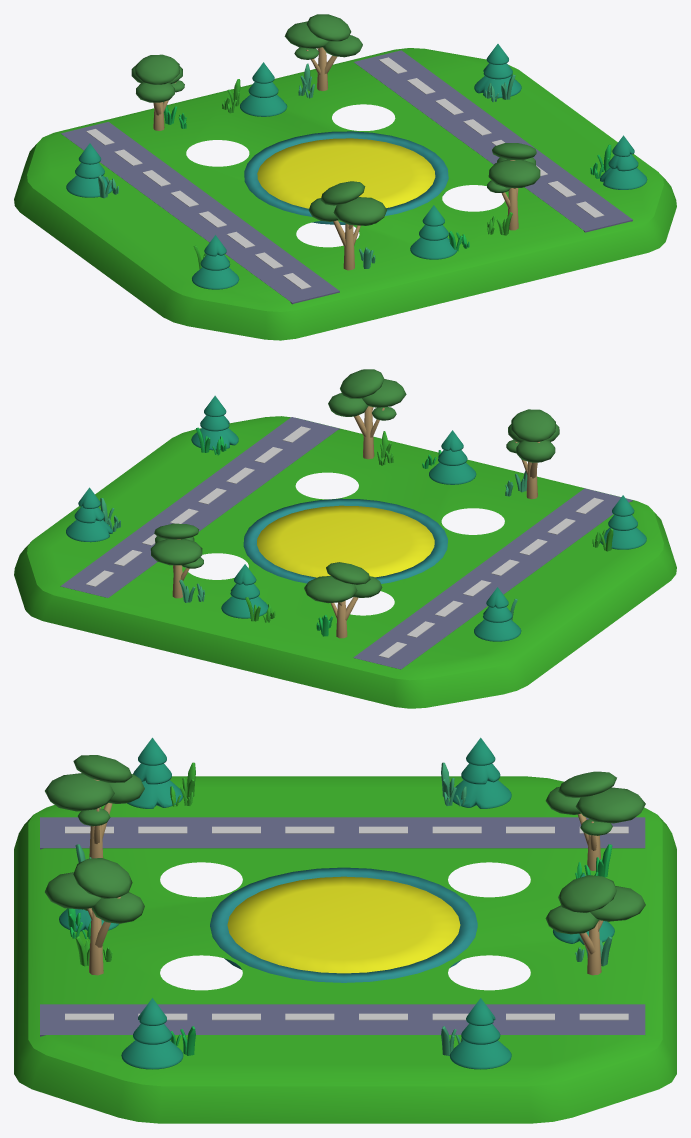
Rendered from park.fbx.
The picture shows the model from 3 angles, top to bottom: view 1: azimuth 30°, elevation 25°; view 2: azimuth 150°, elevation 25°; view 3: azimuth 270°, elevation 25°; orthographic projection. The views are drawn at different scales.
Parts seen in each view (by area): view 1: Cube, Cube.011, Cylinder.001, Cube.001, Cylinder, Icosphere.003, Icosphere.011, Icosphere.010, Icosphere.012, Cube.012, Cone.008, Cone.003 (+7 smaller); view 2: Cube, Cylinder.001, Cube.011, Cube.001, Cylinder, Icosphere.010, Icosphere.011, Icosphere.012, Icosphere.003, Cube.012, Cube.006, Cone.004 (+7 smaller); view 3: Cube, Cylinder.001, Cube.011, Cube.001, Cylinder, Icosphere.011, Icosphere.010, Icosphere.012, Icosphere.003, Cube.012, Cube.006, Cone.011 (+5 smaller).
Boxes of the visible parts, x1,y1,x2,y2 form: Cube: [14, 48, 676, 340]; Cube.011: [61, 122, 339, 304]; Cylinder.001: [257, 138, 435, 208]; Cube.001: [354, 50, 632, 232]; Cylinder: [244, 131, 448, 224]; Icosphere.003: [284, 14, 362, 59]; Icosphere.011: [308, 181, 386, 225]; Icosphere.010: [487, 143, 540, 192]; Icosphere.012: [131, 54, 184, 102]; Cube.012: [86, 129, 311, 289]; Cone.008: [192, 235, 239, 289]; Cone.003: [240, 62, 287, 116]; Cube: [14, 416, 676, 708]; Cylinder.001: [257, 505, 434, 577]; Cube.011: [353, 488, 632, 669]; Cube.001: [60, 417, 339, 597]; Cylinder: [243, 498, 447, 583]; Icosphere.010: [328, 369, 406, 420]; Icosphere.011: [506, 409, 559, 462]; Icosphere.012: [304, 562, 382, 603]; Icosphere.003: [150, 523, 203, 568]; Cube.012: [378, 497, 603, 658]; Cube.006: [85, 426, 310, 586]; Cone.004: [429, 430, 476, 484]; Cube: [14, 776, 676, 1123]; Cylinder.001: [227, 876, 460, 973]; Cube.011: [40, 817, 645, 849]; Cube.001: [40, 1004, 645, 1036]; Cylinder: [210, 867, 477, 982]; Icosphere.011: [45, 755, 144, 826]; Icosphere.010: [45, 858, 144, 923]; Icosphere.012: [545, 771, 645, 835]; Icosphere.003: [545, 875, 645, 934]; Cube.012: [65, 826, 628, 833]; Cube.006: [65, 1013, 628, 1020]; Cone.011: [449, 998, 511, 1069].
Size of the model in its own units: 1718 by 356 by 1486.
